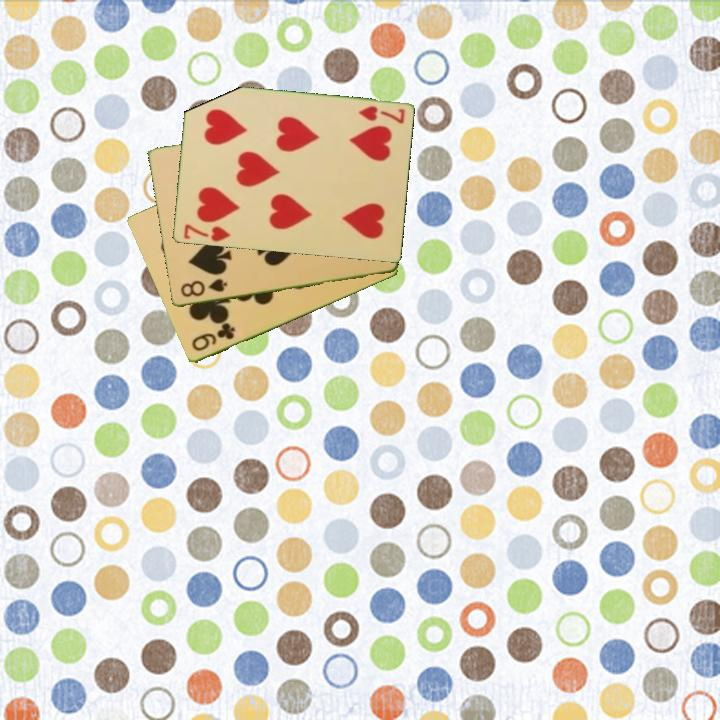7h: (180, 220, 233, 244), (355, 103, 407, 127)
8s: (177, 275, 230, 300)
9c: (188, 320, 238, 355)
